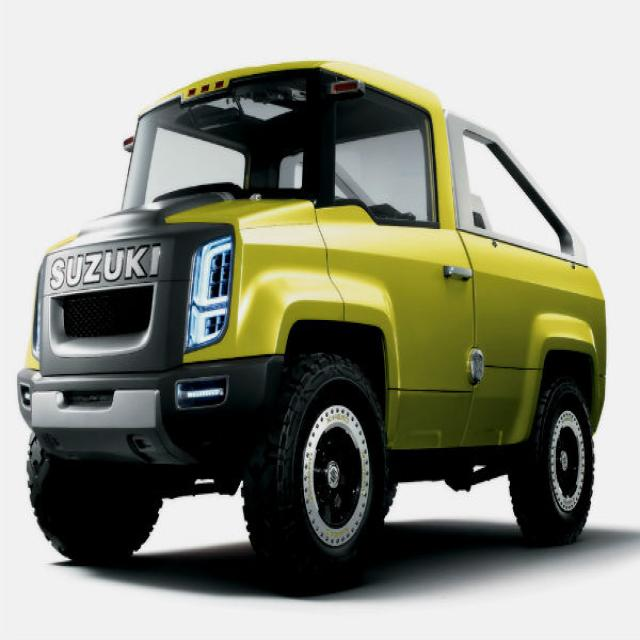truck: (16, 62, 605, 591)
